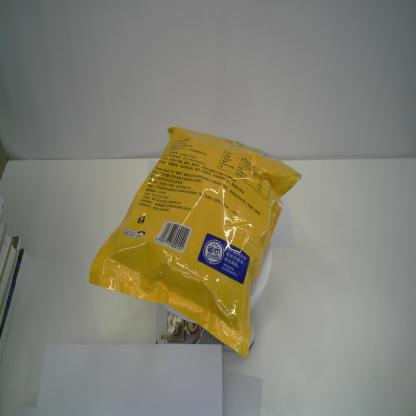Dried Food: (87, 124, 303, 358)
